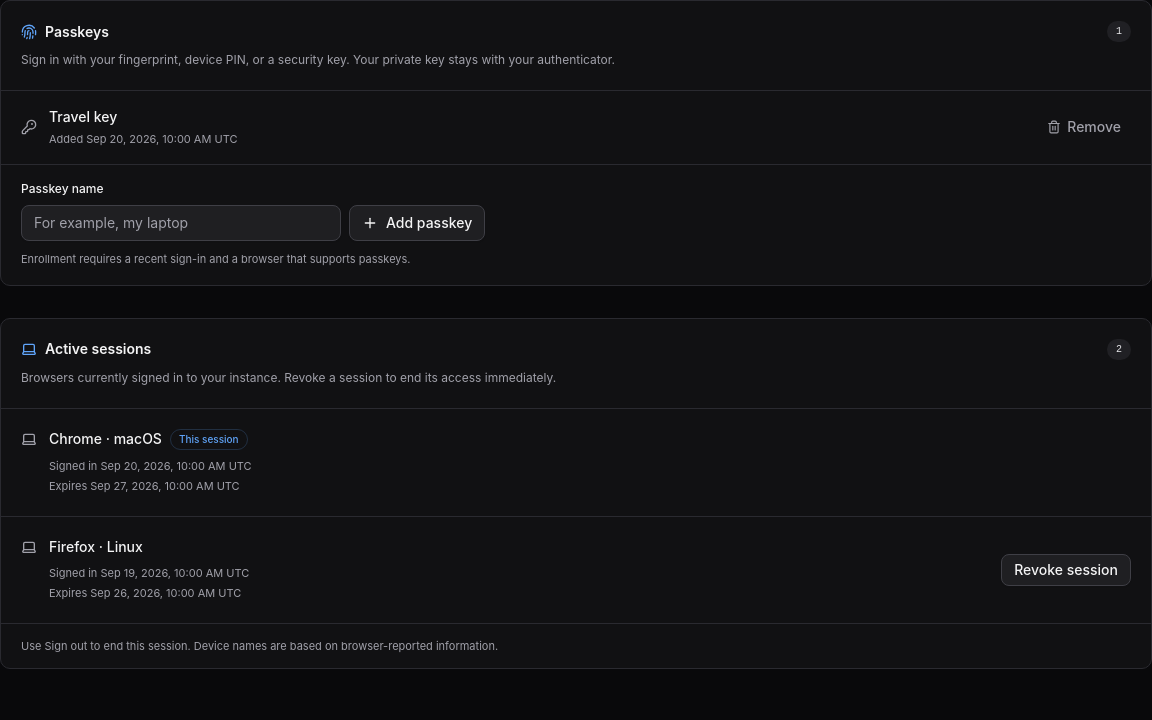
Test: security settings › offers fresh authentication when the server rejects a stale security change
Click the button with aria-label "Remove Travel key": (1084, 127) [1037,111,1131,143]
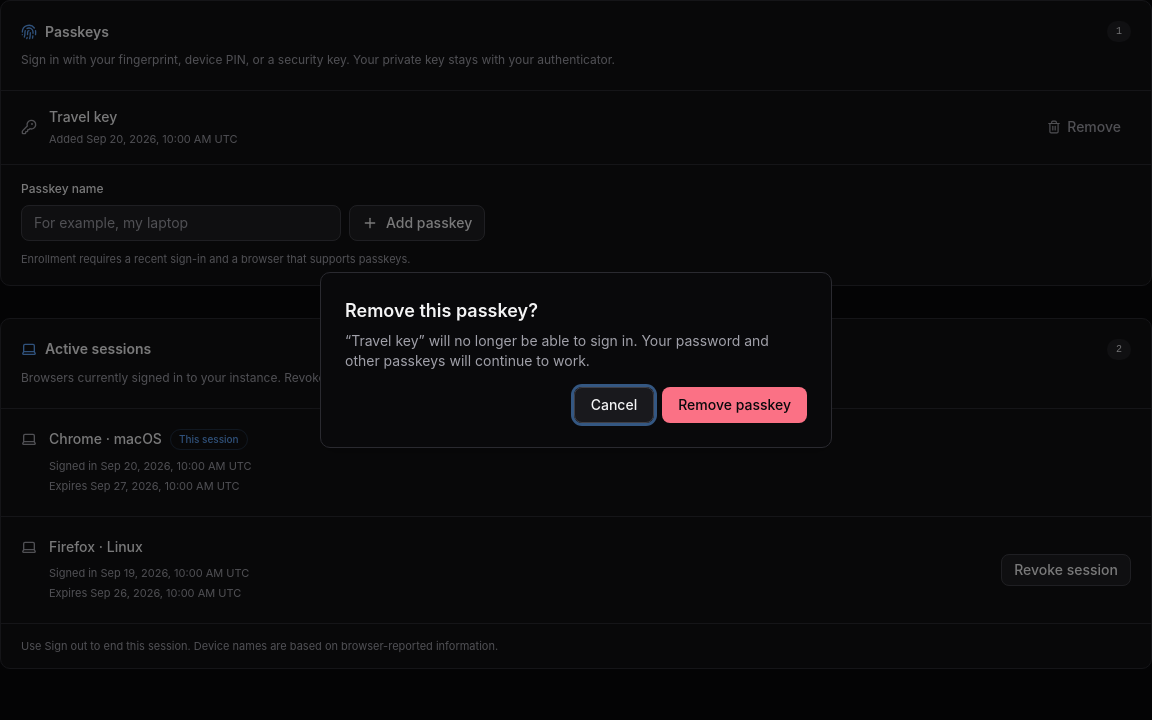
Click the button "Remove passkey": (735, 405) [662,387,807,423]
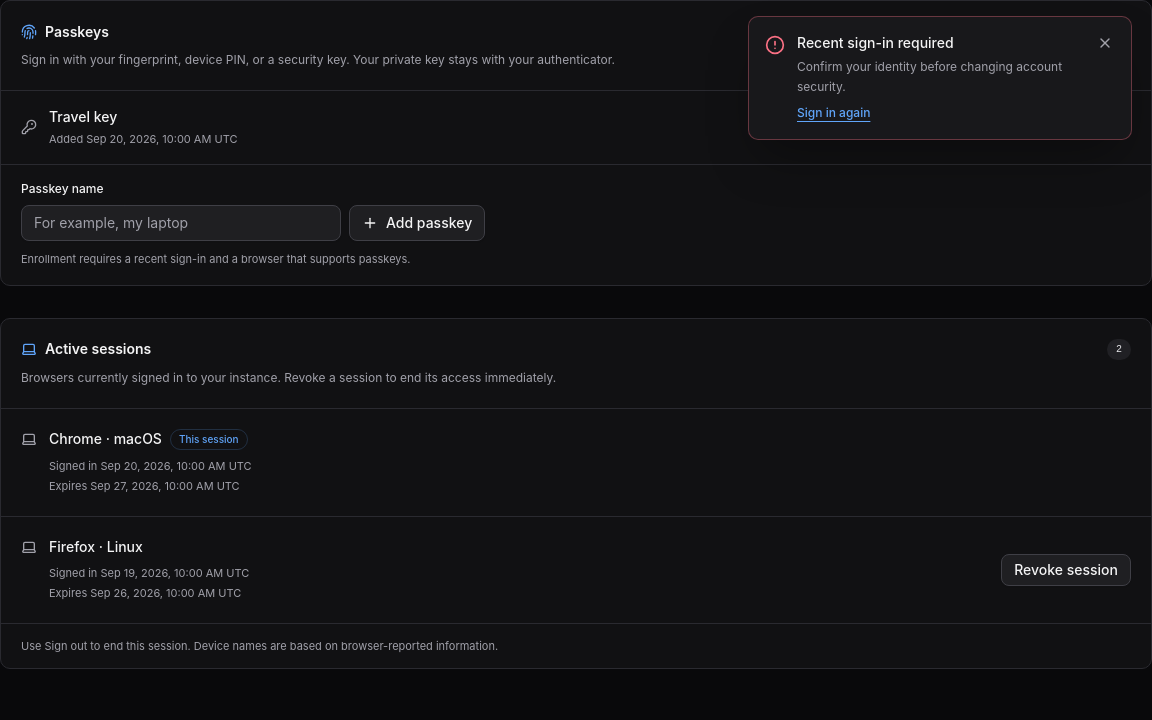
Expected: the message shows "Recent sign-in required", [797,34,954,51]
Expected: the message shows "Confirm your identity before changing account security", [797,59,1062,94]
